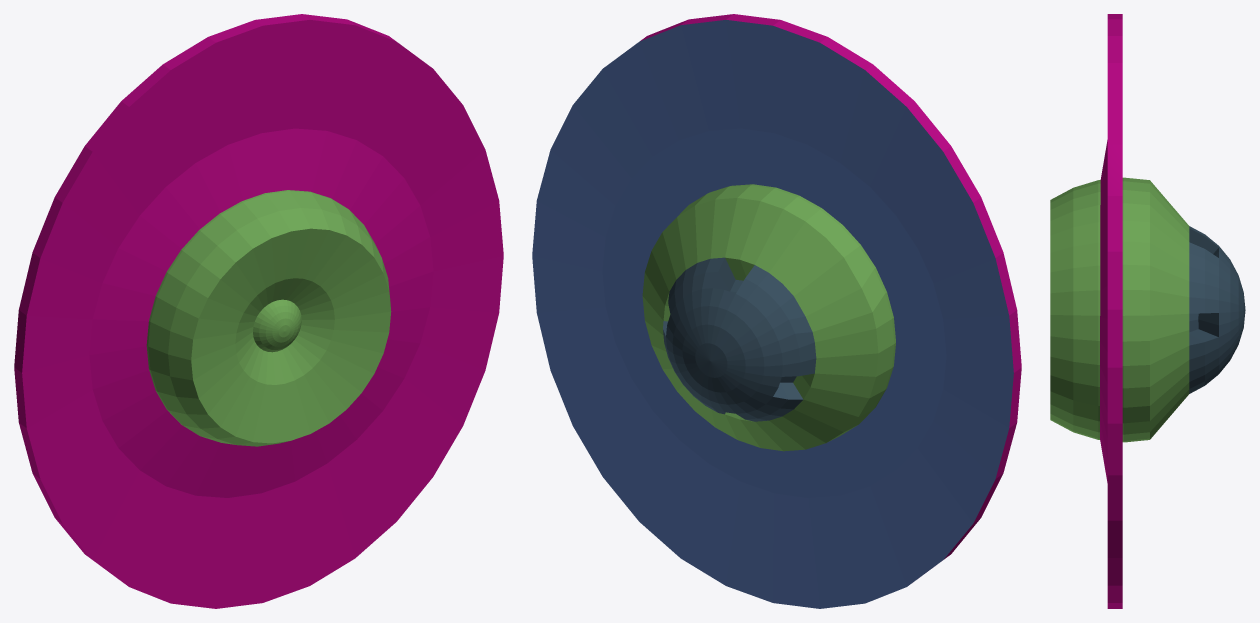
Rendered from UFO.fbx.
3 renders of one model, left to right at view 1: azimuth 30°, elevation 25°; view 2: azimuth 150°, elevation 25°; view 3: azimuth 270°, elevation 25°, orthographic. The views are drawn at different scales.
Parts seen in each view (by area): view 1: Cylinder; view 2: Cylinder; view 3: Cylinder.
Boxes of the visible parts, x1,y1,x2,y2 form: Cylinder: (14,14,503,608); Cylinder: (532,14,1021,608); Cylinder: (1050,14,1245,608).
Bounding box in the file's own units: 5.28 × 6.05 × 1.94.
